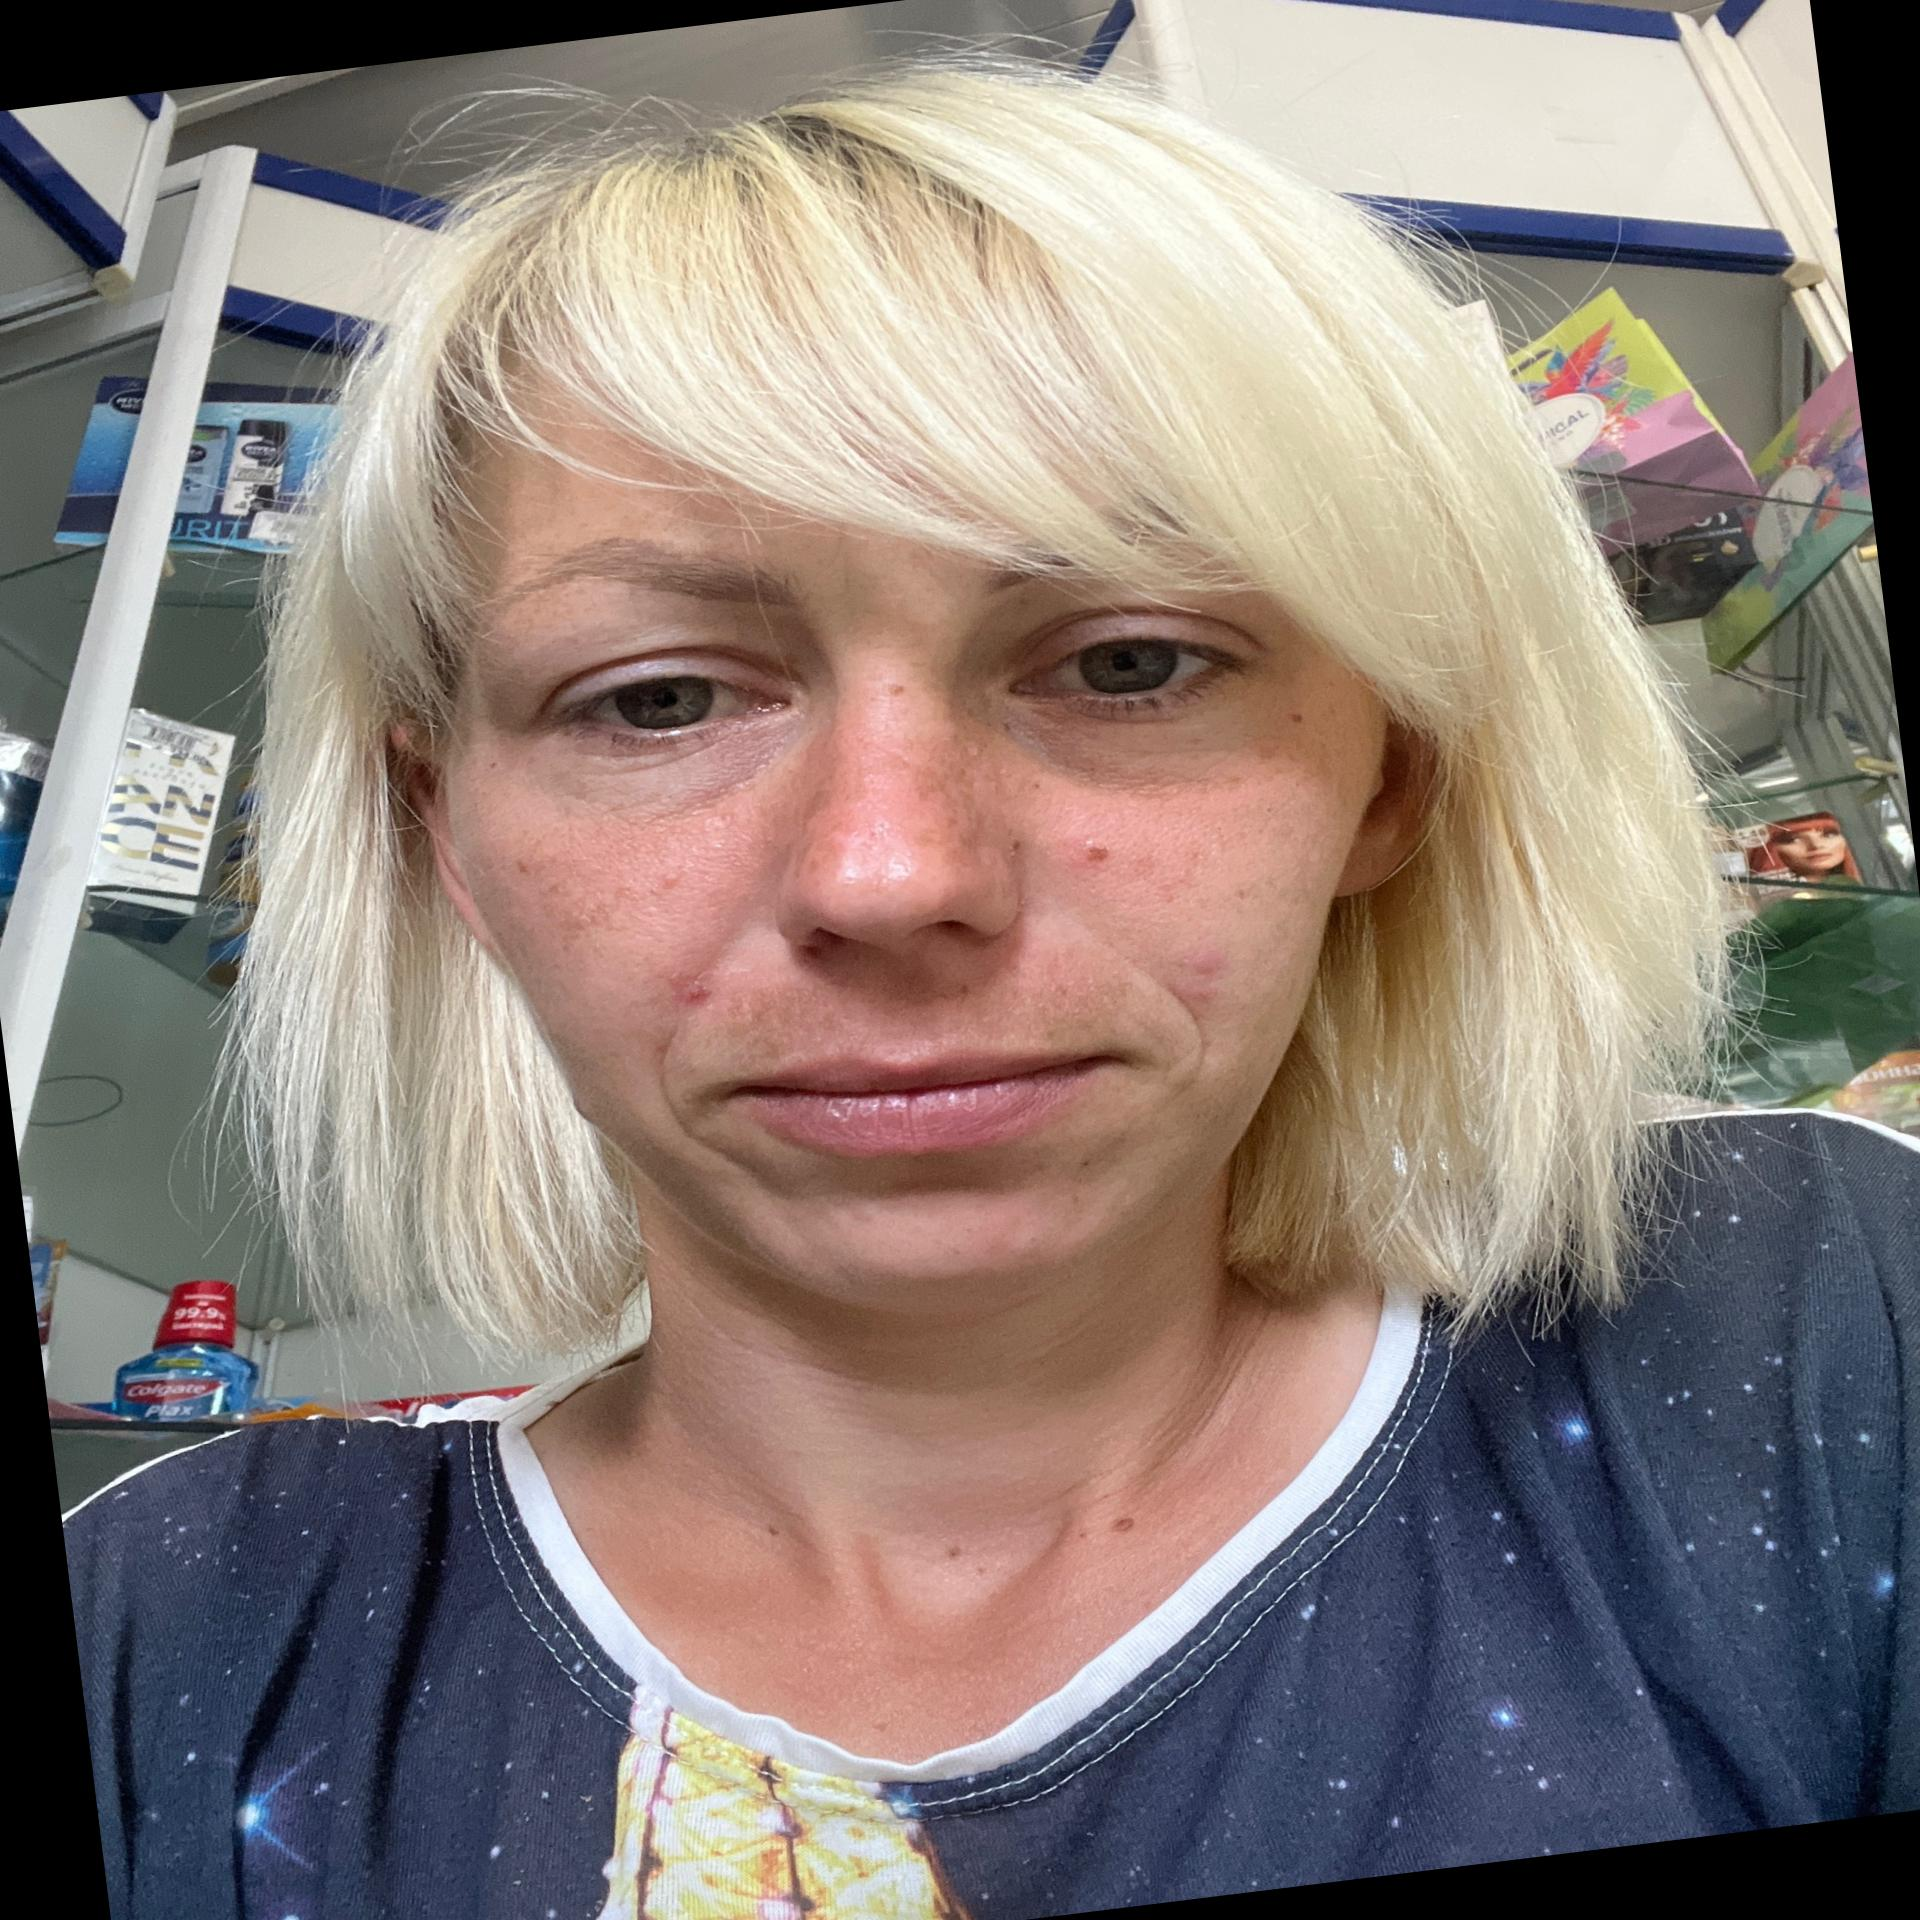Acne: (661, 965, 717, 1009), (1078, 828, 1115, 872), (645, 863, 696, 893), (876, 675, 916, 709), (937, 974, 981, 1004), (997, 828, 1030, 860), (506, 853, 538, 883), (1280, 703, 1310, 731), (1071, 1150, 1101, 1175)
Dark Circles: (979, 656, 1284, 818), (522, 703, 825, 833)
Wrinkles: (644, 1011, 772, 1215), (1099, 921, 1218, 1125), (684, 928, 747, 985)
